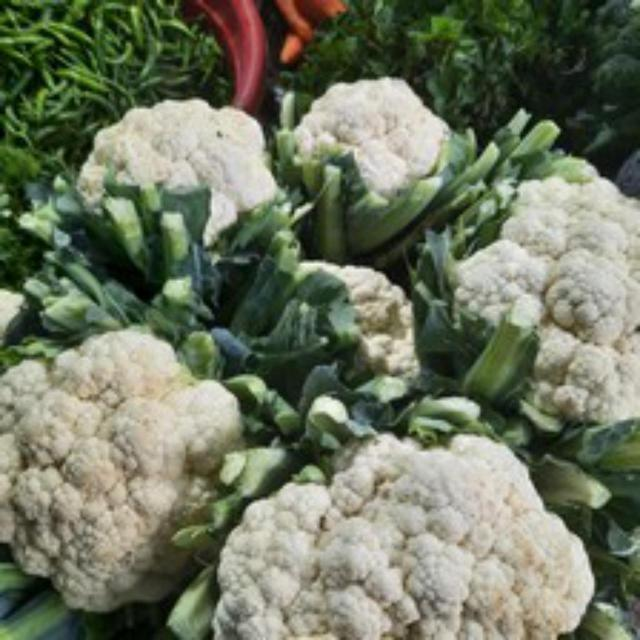cauliflower: (188, 417, 622, 637)
